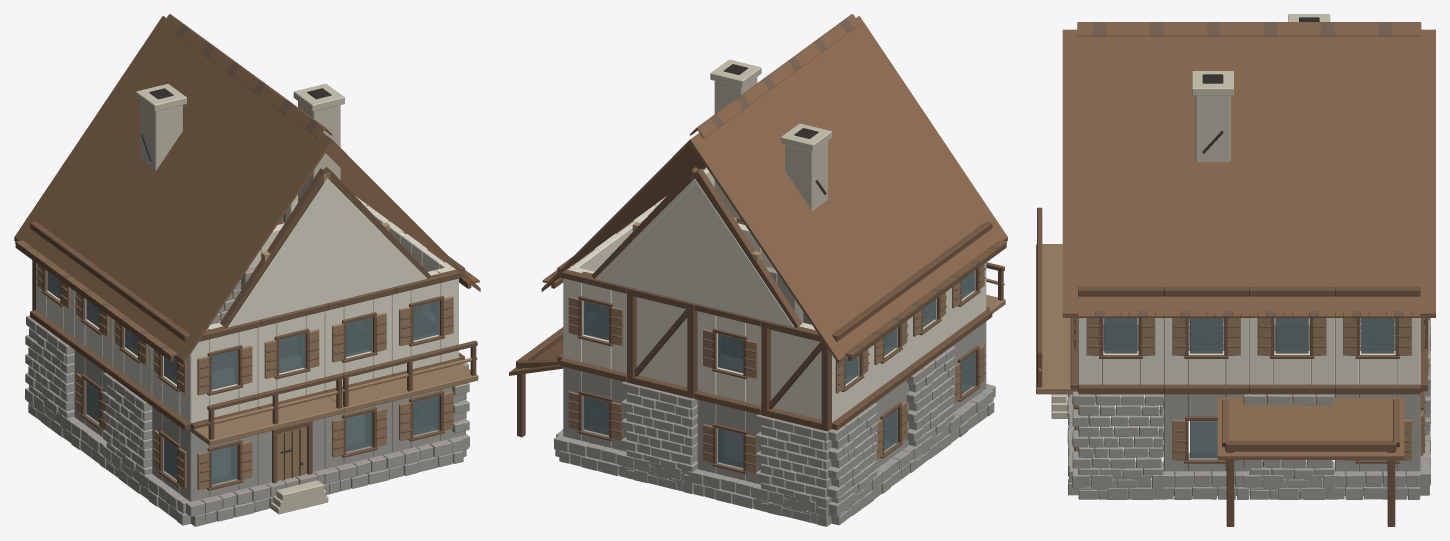
Rendered from residence_tier_3_kit_v1.glb.
The picture shows the model from 3 angles, left to right: view 1: azimuth 30°, elevation 25°; view 2: azimuth 150°, elevation 25°; view 3: azimuth 270°, elevation 25°; orthographic projection. The views are drawn at different scales.
Parts seen in each view (by area): view 1: ResidenceRoofSurface_Left, R3_Gable_Front, ResidenceGallery_0, ResidenceGallery_1, R3_R3_03_Upper_Storey_FrontHost_0, R3_R3_02_Lower_Storey_LeftHost_1, R3_R3_02_Lower_Storey_LeftHost_3, R3_R3_03_Upper_Storey_FrontHost_1, R3_R3_03_Upper_Storey_FrontHost_3, R3_Foundation_Front_+2, R3_R3_03_Upper_Storey_FrontHost_2, R3_GableTruss_Front (+37 smaller); view 2: ResidenceRoofSurface_Left, R3_Gable_Rear, R3_R3_03_Upper_Storey_RearHost_3, R3_R3_03_Upper_Storey_RearHost_1, R3_R3_02_Lower_Storey_RearHost_1, R3_R3_02_Lower_Storey_RearHost_3, R3_R3_03_Upper_Storey_RearHost_0, R3_R3_03_Upper_Storey_RearHost_2, R3_R3_02_Lower_Storey_LeftHost_3, R3_R3_02_Lower_Storey_LeftHost_1, R3_GableTruss_Rear, ResidenceRoofSurface_Right (+32 smaller); view 3: ResidenceRoofSurface_Right, ResidenceAnnexRoof, R3_R3_02_Lower_Storey_RightHost_3, R3_R3_03_Upper_Storey_RightHost_2, R3_R3_03_Upper_Storey_RightHost_1, R3_R3_03_Upper_Storey_RightHost_3, R3_R3_03_Upper_Storey_RightHost_0, R3_Foundation_Right_2, ResidenceWorkingLeanTo, R3_Foundation_Right_6, ResidenceChimney_1, R3_R3_02_Lower_Storey_RightHost_1 (+20 smaller).
Boxes of the visible parts, x1=… form: ResidenceRoofSurface_Left: x1=14, y1=16, x2=331, y2=364; R3_Gable_Front: x1=228, y1=178, x2=427, y2=327; ResidenceGallery_0: x1=189, y1=373, x2=343, y2=445; ResidenceGallery_1: x1=328, y1=340, x2=478, y2=412; R3_R3_03_Upper_Storey_FrontHost_0: x1=185, y1=320, x2=260, y2=429; R3_R3_02_Lower_Storey_LeftHost_1: x1=102, y1=372, x2=152, y2=493; R3_R3_02_Lower_Storey_LeftHost_3: x1=25, y1=315, x2=74, y2=436; R3_R3_03_Upper_Storey_FrontHost_1: x1=257, y1=304, x2=327, y2=412; R3_R3_03_Upper_Storey_FrontHost_3: x1=392, y1=267, x2=462, y2=379; R3_Foundation_Front_+2: x1=324, y1=436, x2=463, y2=493; R3_R3_03_Upper_Storey_FrontHost_2: x1=324, y1=287, x2=395, y2=396; R3_GableTruss_Front: x1=220, y1=167, x2=430, y2=327; ResidenceRoofSurface_Left: x1=690, y1=15, x2=1007, y2=364; R3_Gable_Rear: x1=595, y1=178, x2=794, y2=327; R3_R3_03_Upper_Storey_RearHost_3: x1=761, y1=320, x2=834, y2=431; R3_R3_03_Upper_Storey_RearHost_1: x1=627, y1=287, x2=697, y2=398; R3_R3_02_Lower_Storey_RearHost_1: x1=621, y1=381, x2=697, y2=490; R3_R3_02_Lower_Storey_RearHost_3: x1=755, y1=414, x2=831, y2=523; R3_R3_03_Upper_Storey_RearHost_0: x1=560, y1=266, x2=627, y2=382; R3_R3_03_Upper_Storey_RearHost_2: x1=694, y1=304, x2=761, y2=414; R3_R3_02_Lower_Storey_LeftHost_3: x1=827, y1=403, x2=877, y2=525; R3_R3_02_Lower_Storey_LeftHost_1: x1=906, y1=346, x2=955, y2=468; R3_GableTruss_Rear: x1=591, y1=167, x2=802, y2=327; ResidenceRoofSurface_Right: x1=541, y1=139, x2=705, y2=291; ResidenceRoofSurface_Right: x1=1062, y1=29, x2=1435, y2=317; ResidenceAnnexRoof: x1=1217, y1=394, x2=1404, y2=459; R3_R3_02_Lower_Storey_RightHost_3: x1=1072, y1=391, x2=1163, y2=499; R3_R3_03_Upper_Storey_RightHost_2: x1=1163, y1=286, x2=1249, y2=394; R3_R3_03_Upper_Storey_RightHost_1: x1=1249, y1=286, x2=1334, y2=394; R3_R3_03_Upper_Storey_RightHost_3: x1=1078, y1=286, x2=1163, y2=394; R3_R3_03_Upper_Storey_RightHost_0: x1=1335, y1=286, x2=1420, y2=394; R3_Foundation_Right_2: x1=1243, y1=468, x2=1420, y2=499; ResidenceWorkingLeanTo: x1=1222, y1=399, x2=1399, y2=526; R3_Foundation_Right_6: x1=1072, y1=468, x2=1248, y2=499; ResidenceChimney_1: x1=1192, y1=71, x2=1233, y2=161; R3_R3_02_Lower_Storey_RightHost_1: x1=1243, y1=393, x2=1334, y2=499.
Bounding box in the file's own units: 10.43 × 10.41 × 9.34.
